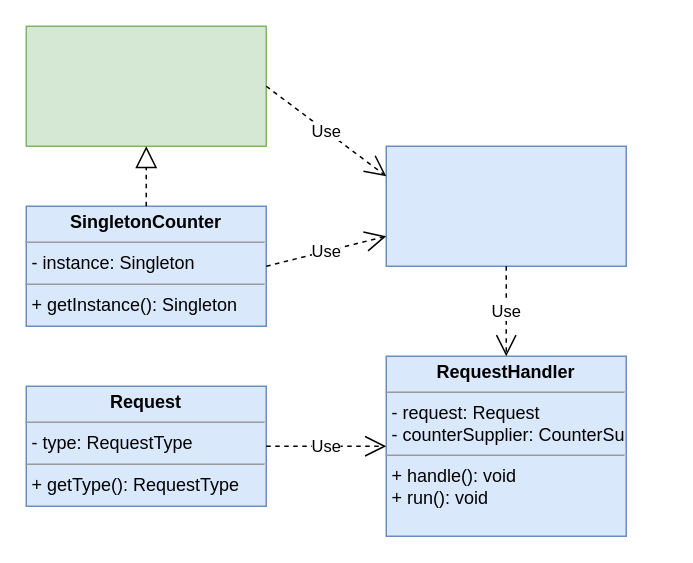
Image size: 693x563. Some labels were removed from this diagram. The centre of each missing label's shape, as x and y in pixels:
"<<Interface>> Counter + increment(): void + total(): int" belongs at (145,85).
"CounterSupplier + getCounter(): Counter" belongs at (505,205).
